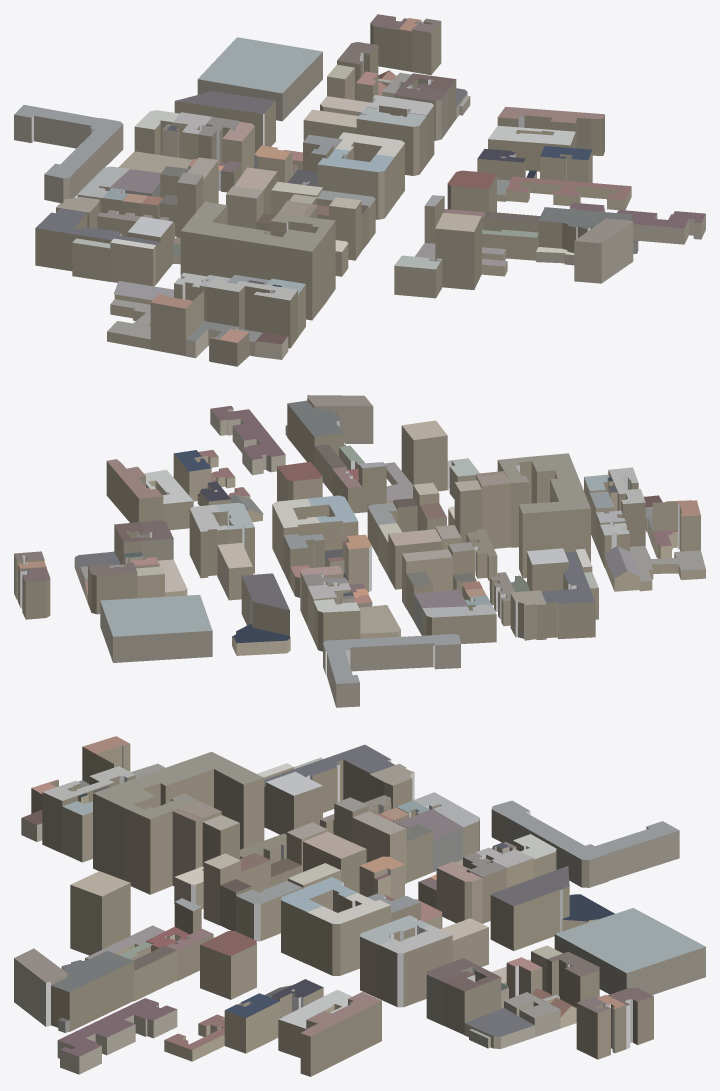
3 views of the same model, one above another, from view 1: azimuth 30°, elevation 25°; view 2: azimuth 150°, elevation 25°; view 3: azimuth 270°, elevation 25° (orthographic). The views are drawn at different scales.
Visible parts, largest first — view 1: tuile; view 2: tuile; view 3: tuile.
Boxes of the visible parts, box(x1,y1,x2,y2) form: tuile: box(14, 14, 705, 366); tuile: box(14, 395, 705, 707); tuile: box(14, 736, 705, 1076).
Bounding box in the file's own units: 290 × 34.01 × 280.
